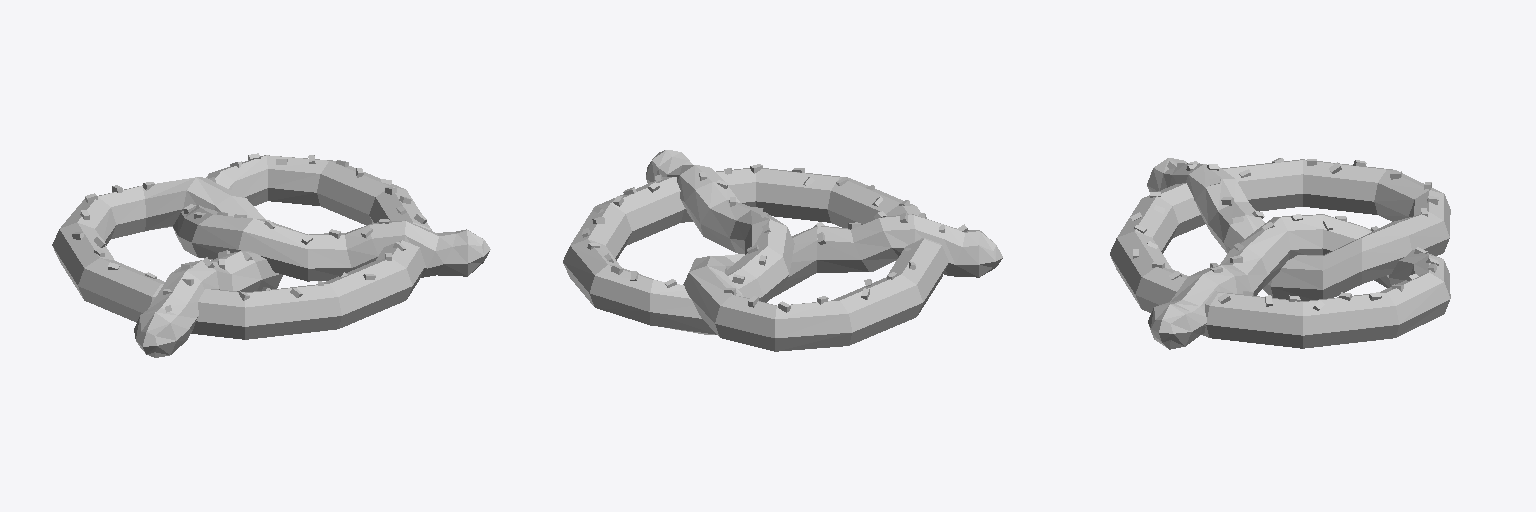
File: pretzel.obj
3 renders of one model, left to right at view 1: azimuth 30°, elevation 25°; view 2: azimuth 150°, elevation 25°; view 3: azimuth 270°, elevation 25°, orthographic.
Size of the model in its own units: 2.4 by 0.5525 by 2.03.